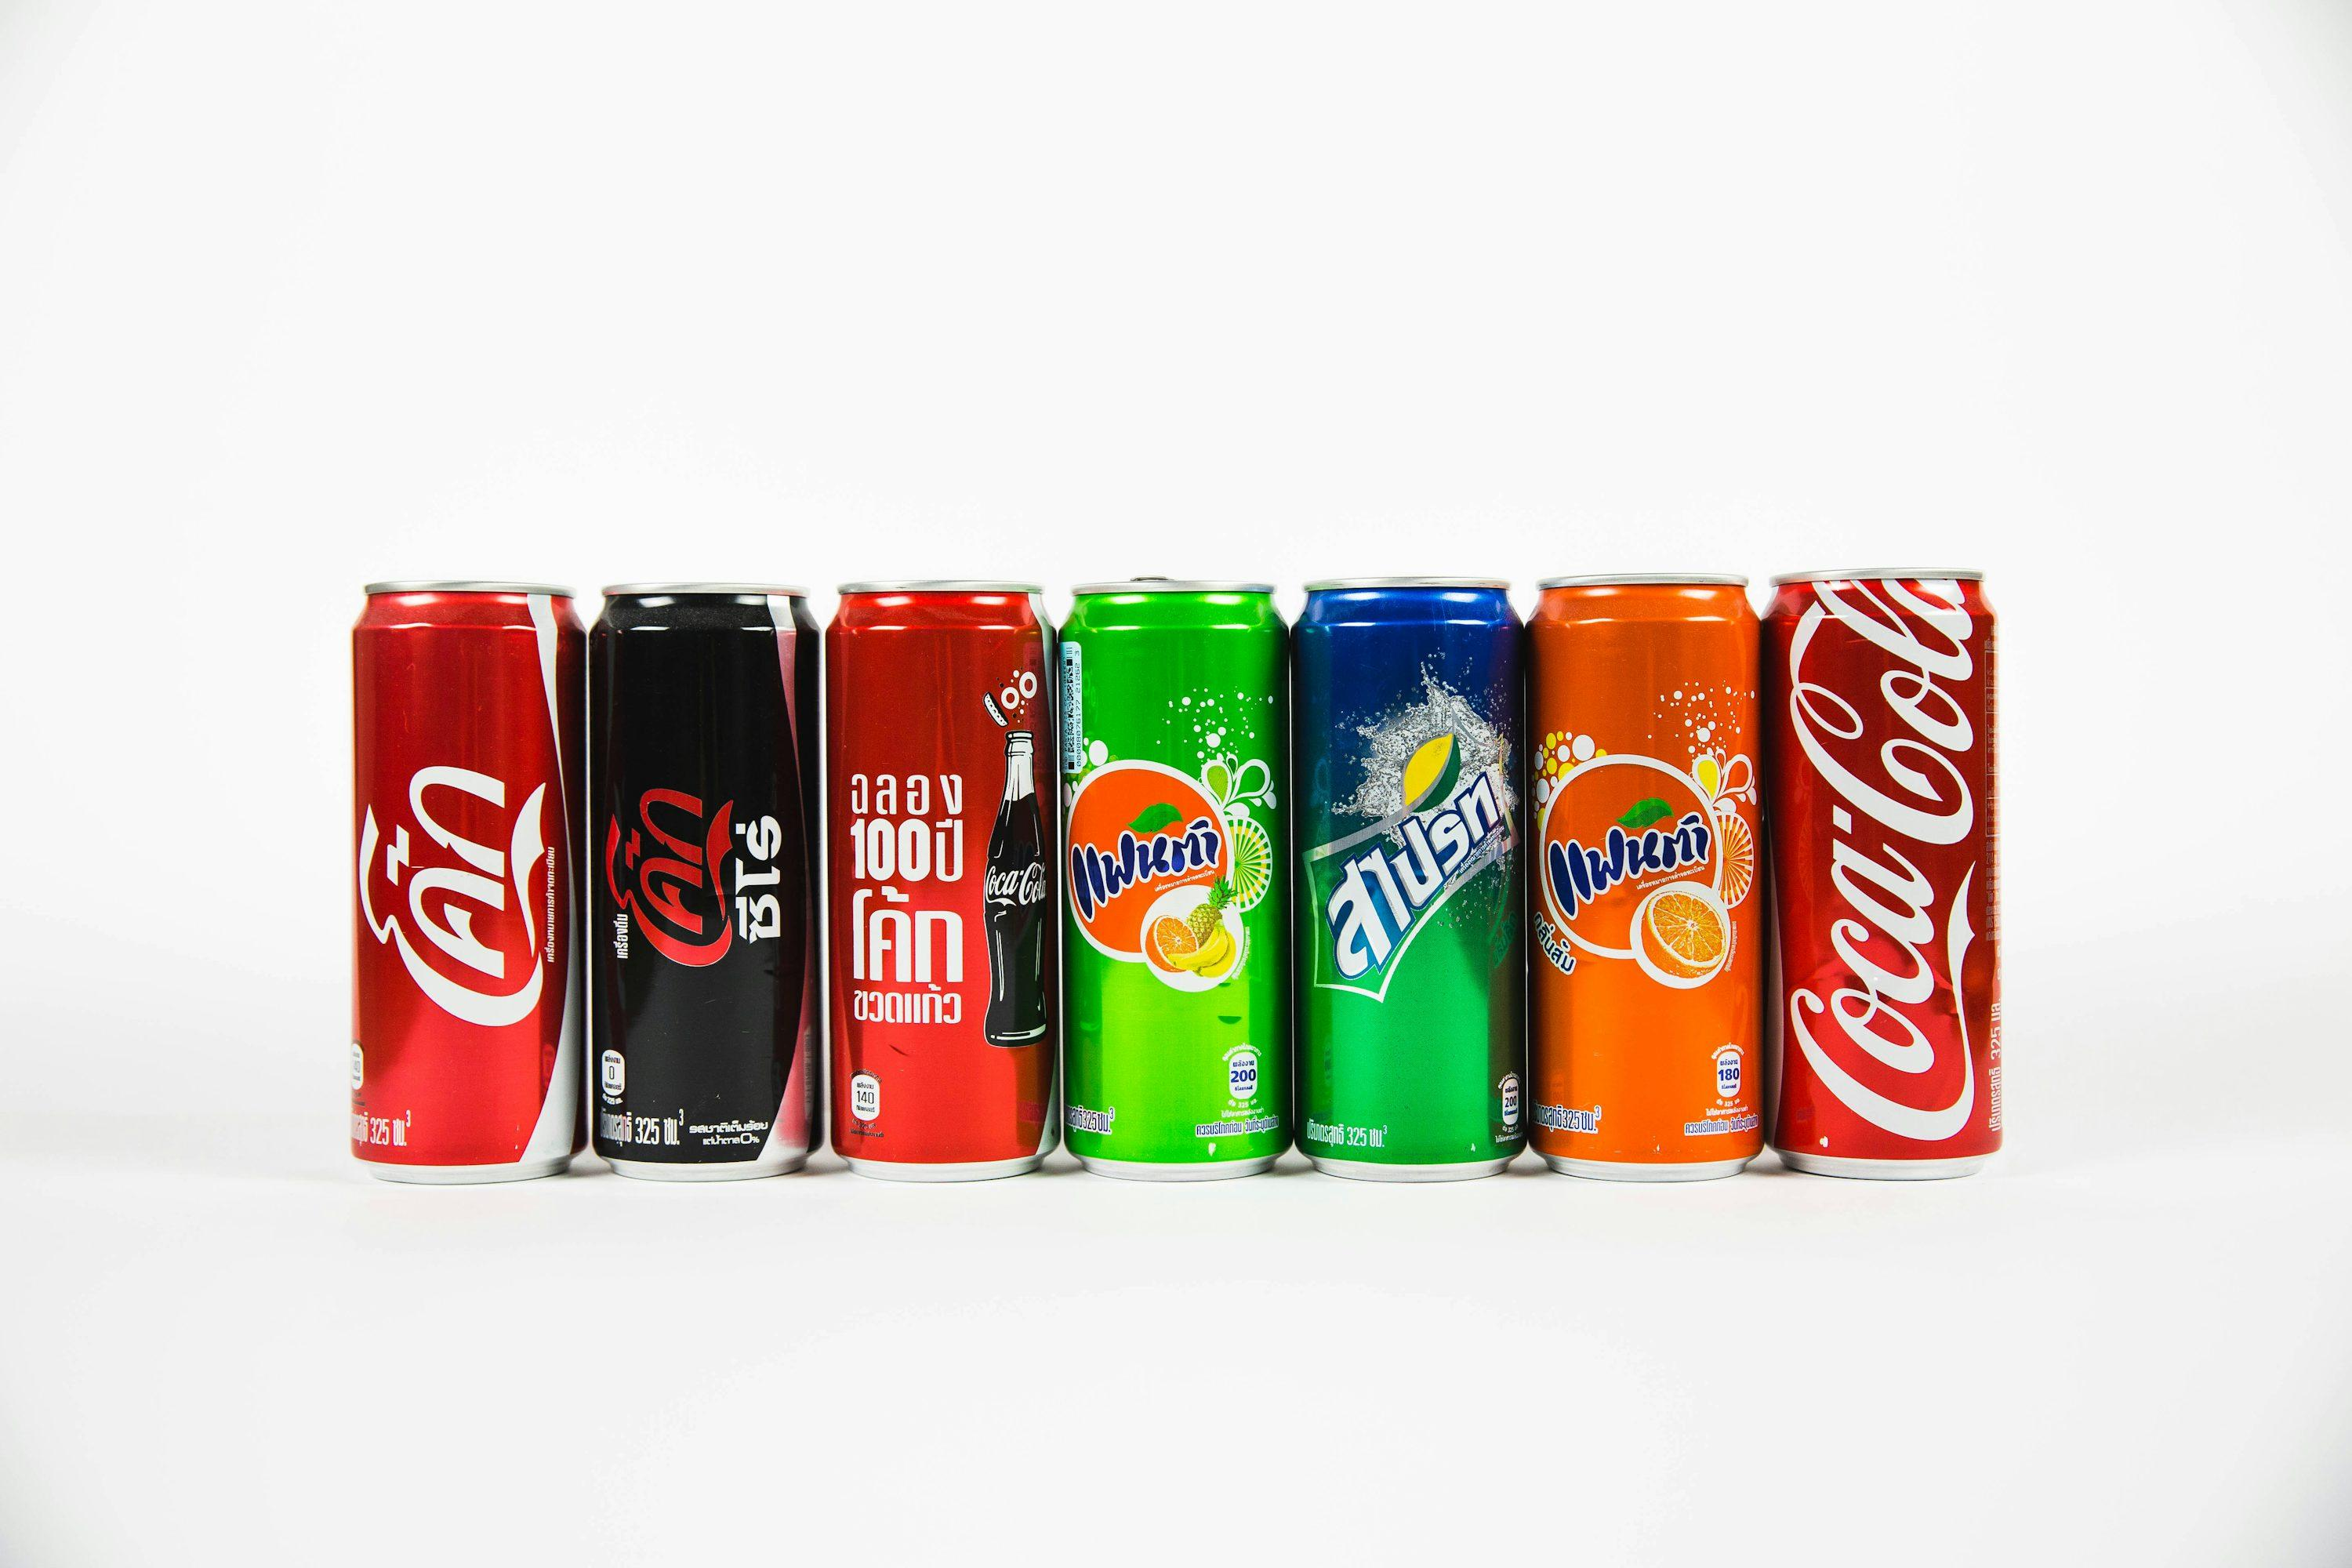can: (1762, 565, 2002, 1179), (1526, 565, 1764, 1181), (1292, 574, 1528, 1183), (350, 583, 585, 1183), (826, 579, 1061, 1179), (1061, 569, 1290, 1181), (590, 581, 819, 1179)
